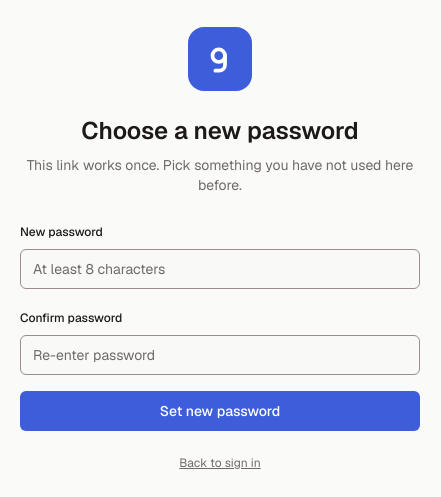
Scenario: the fields say what is wrong before the button is pressed › holds the new password to the minimum on blur
The image size is (441, 497).
Type "short" into the password field labelled "New password". click: (220, 268)
box: [20,248,420,288]
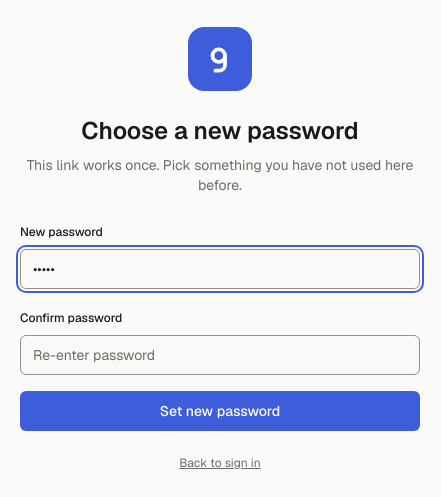
Press Tab
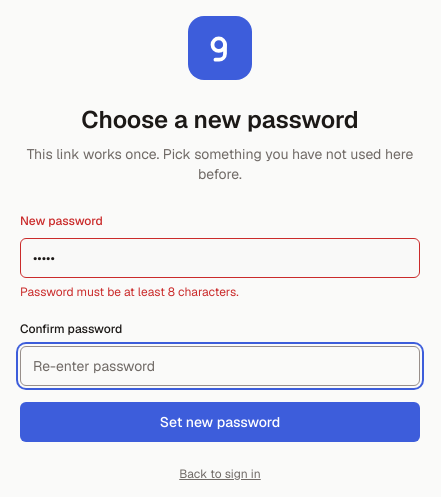
Check: the message reads "Password must be at least 8 characters.", box [20,284,239,300]
